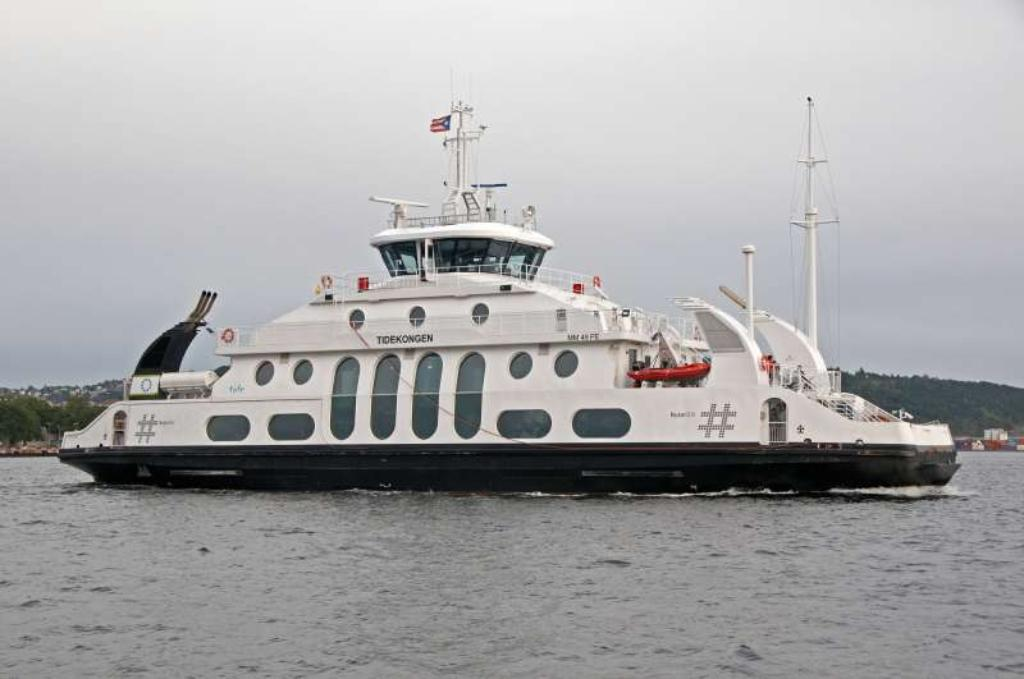PassengerShip: (51, 134, 971, 493)
